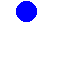circle: (16, 1, 36, 21)
